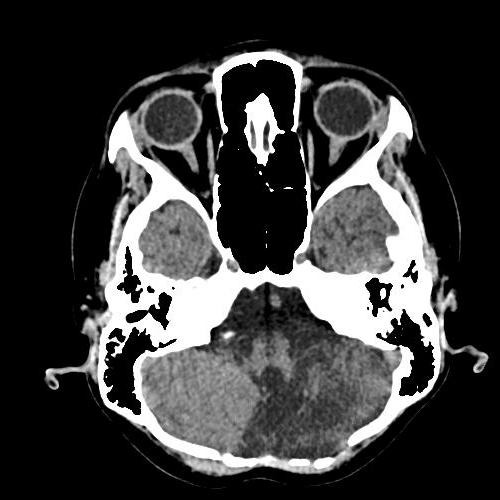Cancer: (231, 358, 346, 460)
